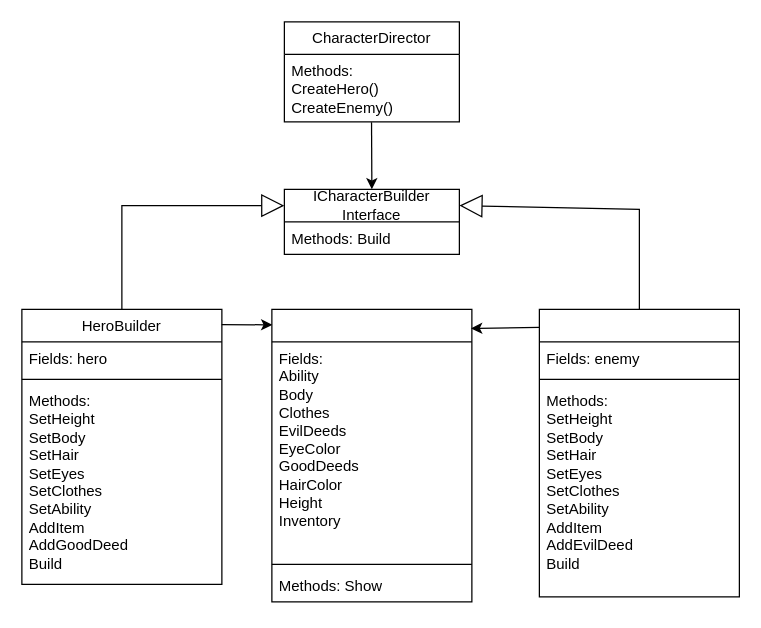
Some shapes in this 761 by 628 pixel diagram are drawn without their labels. The shapes that lost their labels are listed below. From the top down, each one's box as (x1, y1, x2, y2) in pixels, then its label:
(271, 308, 472, 602): Character
(538, 308, 739, 597): EnemyBuilder
